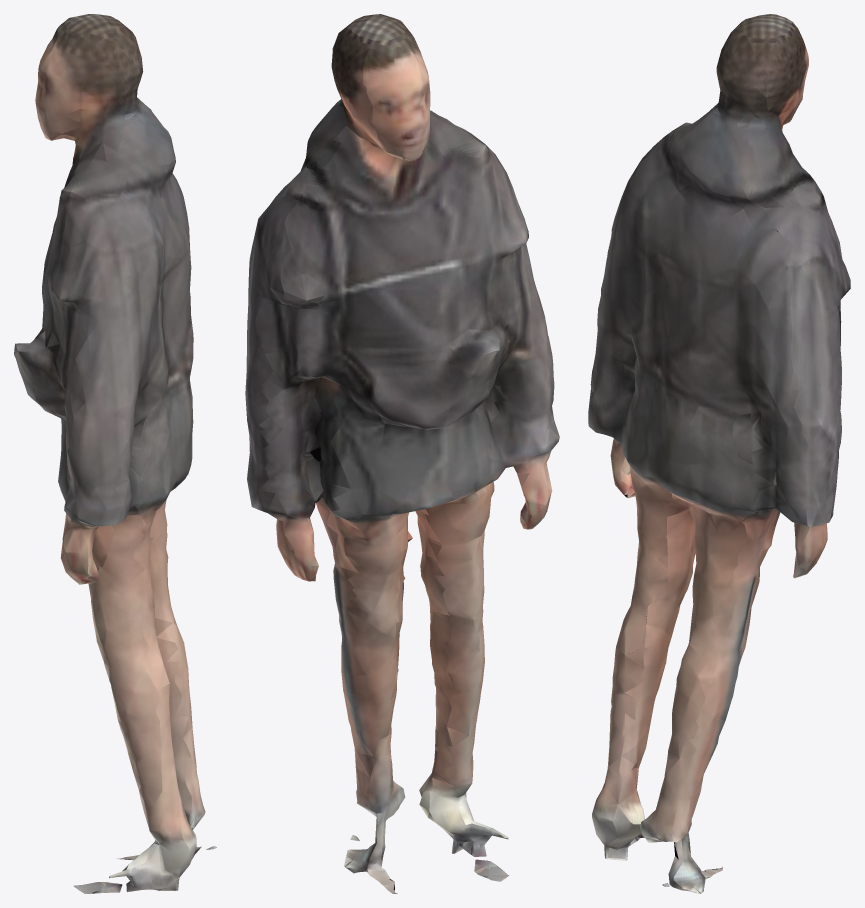
The picture shows the model from 3 angles, left to right: view 1: azimuth 30°, elevation 25°; view 2: azimuth 150°, elevation 25°; view 3: azimuth 270°, elevation 25°; orthographic projection. The views are drawn at different scales.
Parts seen in each view (by area): view 1: world; view 2: world; view 3: world.
Boxes of the visible parts, left/top/right/bottom form: world: left=14, top=14, right=216, bottom=893; world: left=245, top=14, right=559, bottom=893; world: left=588, top=14, right=850, bottom=893.
Size of the model in its own units: 0.2367 by 0.9423 by 0.2647.
Materials: 1 (1 with a texture image).
